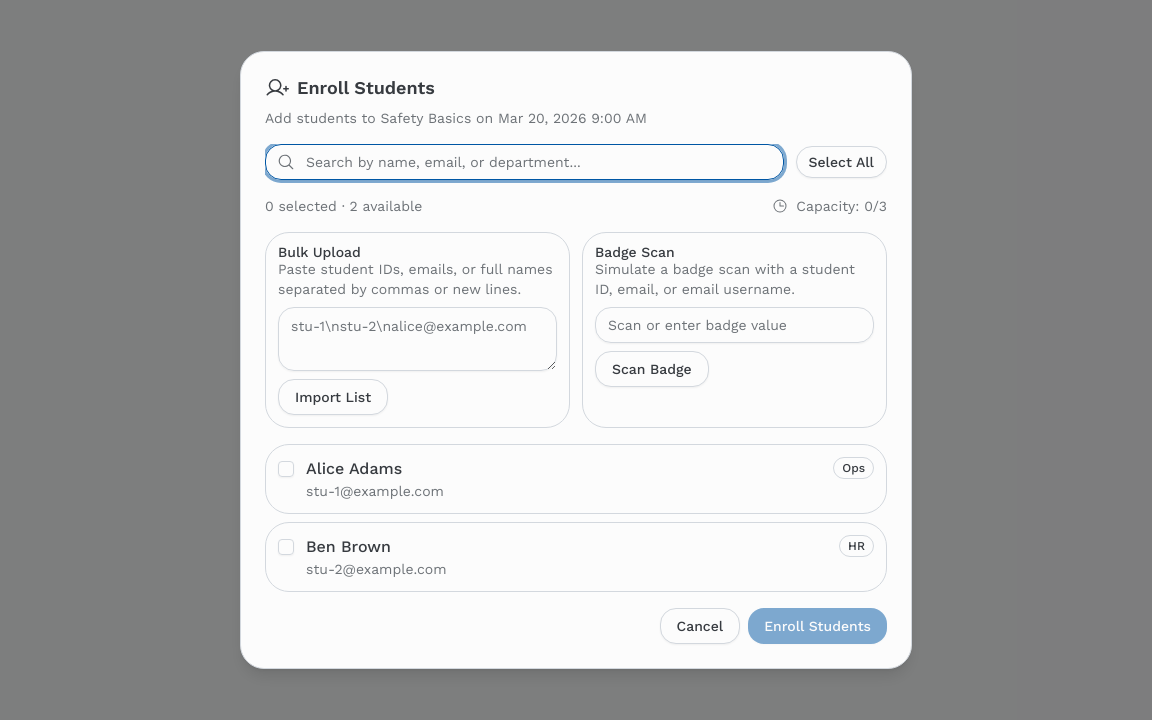
Test: EnrollStudentsDialog › supports select all and deselect all
What coordinates should you click on to do the following:
click the button "Select All"
I would click on:
 (841, 162)
Its box is [796, 146, 887, 178].
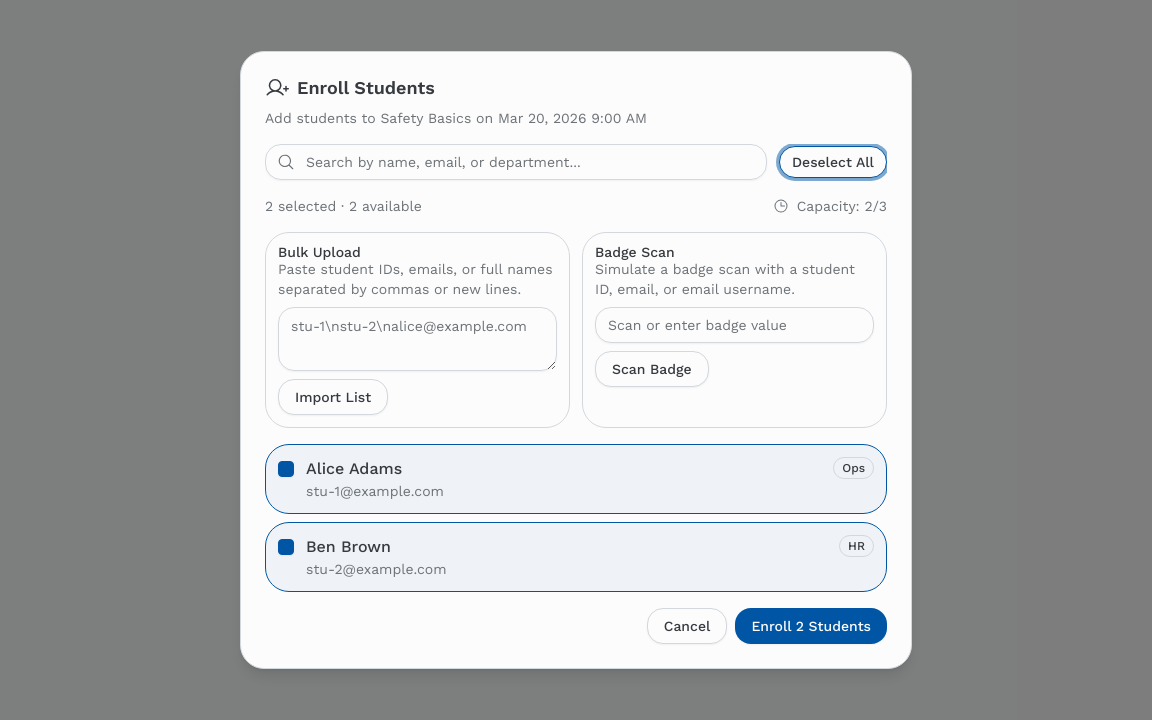
Check: the text "2 selected · 2 available" is shown, box [265, 196, 422, 216]
Check: the button "Deselect All" is shown
What coordinates should you click on to do the following:
click the button "Deselect All"
I would click on:
 (833, 162)
Its box is [779, 146, 887, 178].
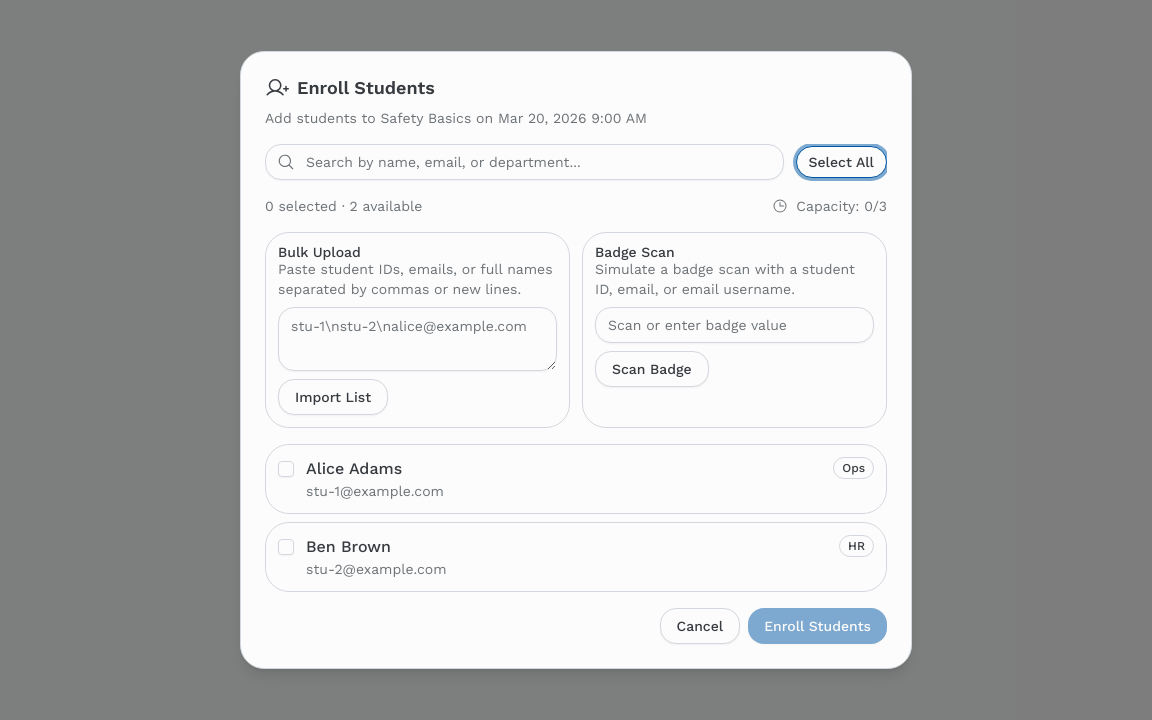
Check: the text "0 selected · 2 available" is shown, box [265, 196, 422, 216]
